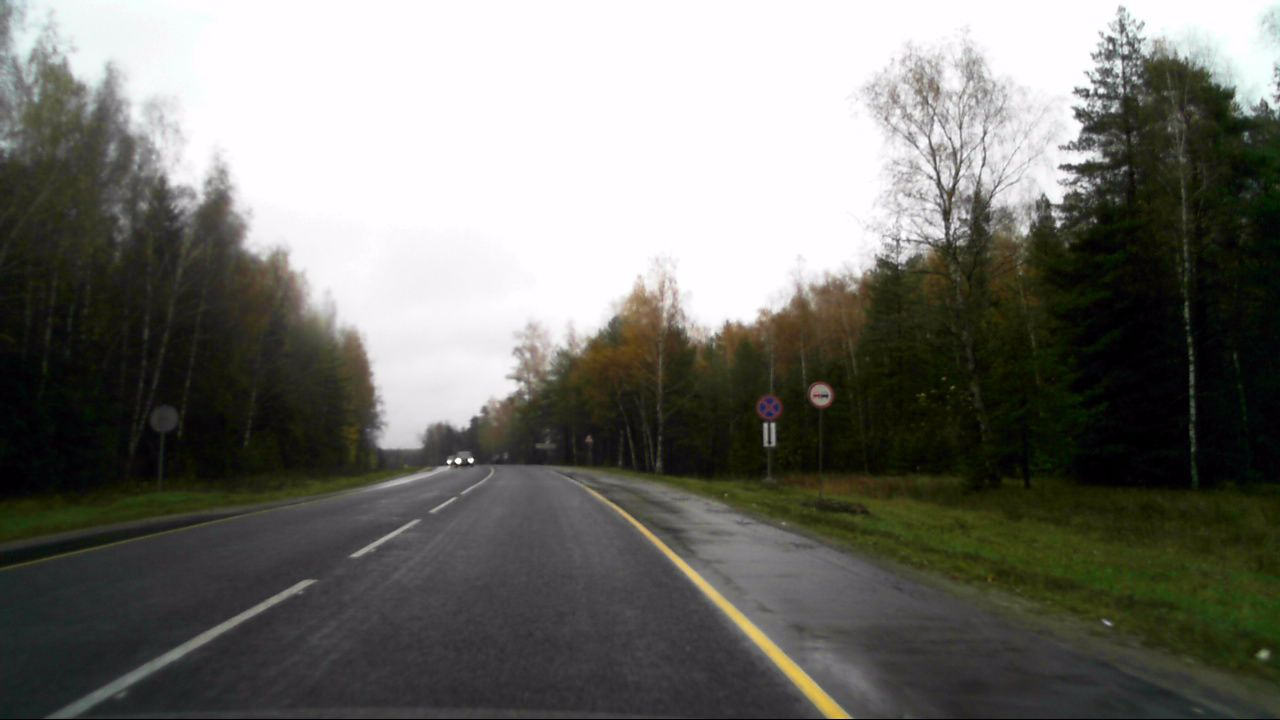No Parking: (755, 391, 784, 420)
